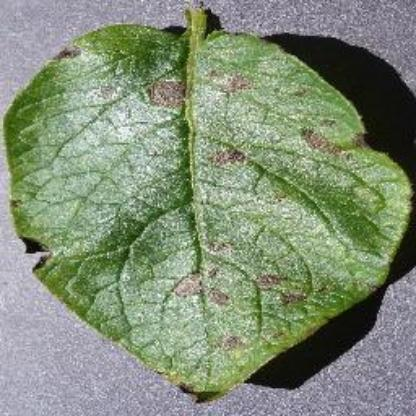Early-Blight: (5, 1, 415, 400)
